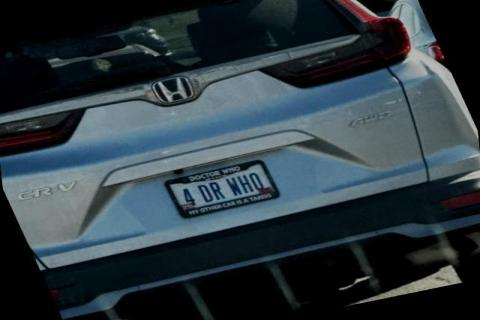LicensePlate: (161, 158, 280, 218)
